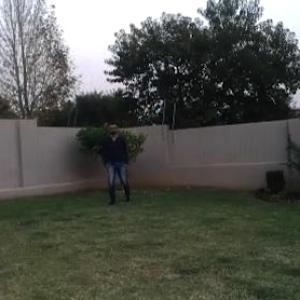follow: (102, 118, 130, 208)
